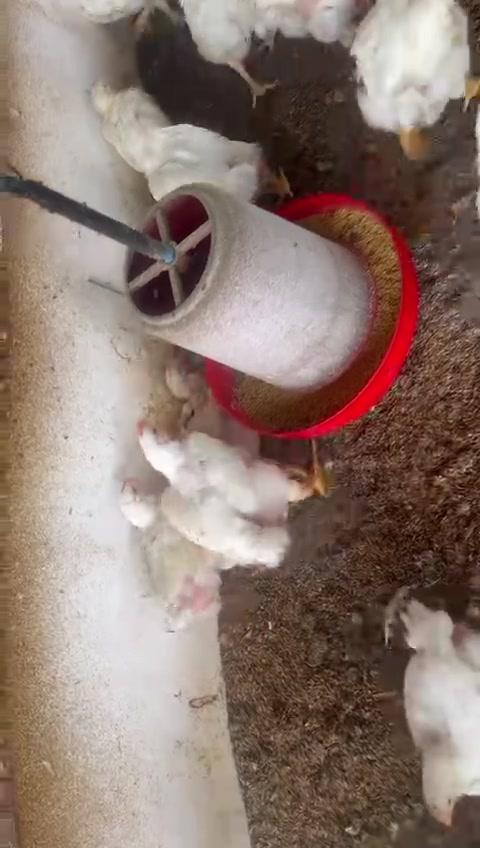AbNormal: (385, 585, 480, 823), (103, 467, 222, 635), (352, 0, 475, 158), (78, 70, 165, 162)
Normal: (138, 405, 332, 565), (115, 108, 285, 198)
